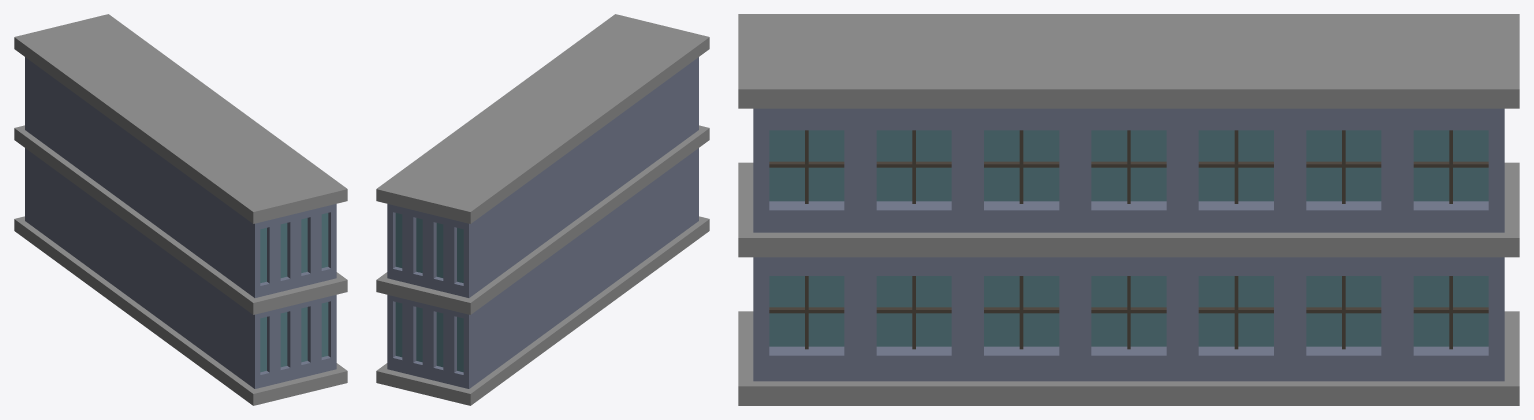
Rendered from Apartment3.fbx.
3 views of the same model, side by side, from view 1: azimuth 30°, elevation 25°; view 2: azimuth 150°, elevation 25°; view 3: azimuth 270°, elevation 25° (orthographic). The views are drawn at different scales.
Parts seen in each view (by area): view 1: Apartment3; view 2: Apartment3; view 3: Apartment3.
Boxes of the visible parts, x1,y1,x2,y2 form: Apartment3: (14,14,347,405); Apartment3: (376,14,709,405); Apartment3: (738,14,1519,405).
Size of the model in its own units: 231 by 453 by 1013.
